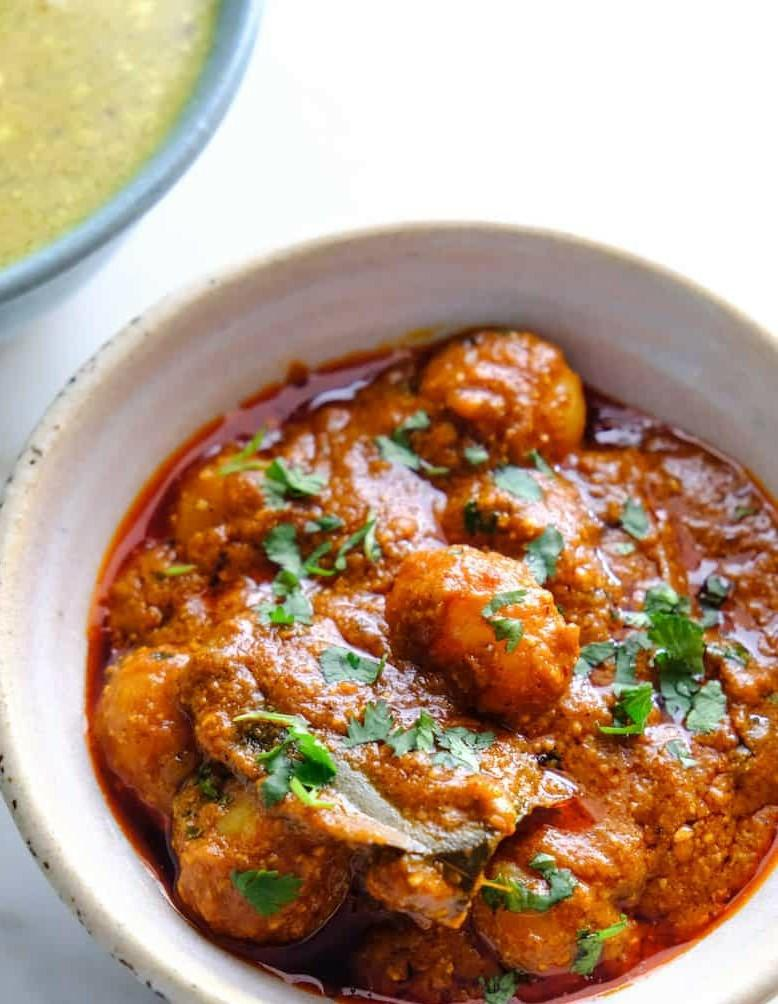DumAloo: (87, 310, 778, 1004)
